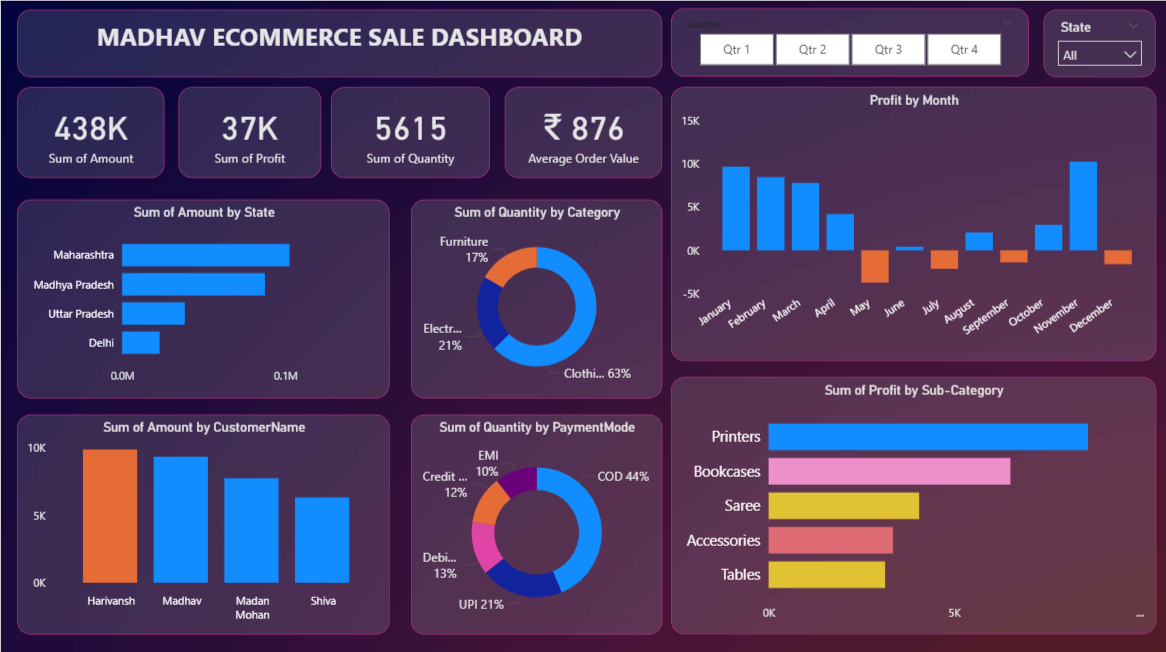

This screenshot's page, from the dashboard's own definition file:
{"tool":"powerbi","page":{"name":"Page 1","canvas":[1280,720],"ordinal":0},"visuals":[{"type":"textbox","box":[17.8,9.6,708.1,74.1],"z":0},{"type":"columnChart","title":"Profit by Month","fields":{"Y":["Sum(Details.Profit)"],"Category":["Orders.Order Date.Variation.Date Hierarchy.Month"]},"box":[735.5,94.7,532.4,300.5],"z":1000},{"type":"donutChart","fields":{"Category":["Details.Category"],"Y":["Sum(Details.Quantity)"]},"box":[450.1,218.2,275.8,218.2],"z":2000},{"type":"donutChart","fields":{"Category":["Details.PaymentMode"],"Y":["Sum(Details.Quantity)"]},"box":[450.1,454.2,275.8,241.5],"z":3000},{"type":"card","fields":{"Values":["Sum(Details.Amount)"]},"box":[17.8,94.7,161.9,100.2],"z":4000},{"type":"card","fields":{"Values":["Sum(Details.Quantity)"]},"box":[362.3,94.7,174.3,100.2],"z":5000},{"type":"card","fields":{"Values":["Sum(Details.Profit)"]},"box":[194.9,94.7,156.4,100.2],"z":6000},{"type":"card","fields":{"Values":["Sum(Details.CAOV)"]},"box":[553,94.7,172.9,100.2],"z":7000},{"type":"barChart","fields":{"Category":["Details.Sub-Category"],"Y":["Sum(Details.Profit)"]},"box":[735.5,413,532.4,282.7],"z":8000},{"type":"barChart","fields":{"Category":["Orders.State"],"Y":["Sum(Details.Amount)"]},"box":[17.8,218.2,408.9,218.2],"z":9000},{"type":"columnChart","fields":{"Category":["Orders.CustomerName"],"Y":["Sum(Details.Amount)"]},"box":[17.8,454.2,408.9,241.5],"z":10000},{"type":"slicer","fields":{"Values":["Orders.Order Date.Variation.Date Hierarchy.Quarter"]},"box":[735.5,8.2,392.5,75.5],"z":10001},{"type":"slicer","fields":{"Values":["Orders.State"]},"box":[1144.4,9.6,123.5,74.1],"z":10002}]}

Visuals, with their boxes in screenshot pixels (x1, y1, x2, y2), scaled from the page's 1280x720 canvas onto the 1166x652 screenshot:
textbox: rect(16, 9, 661, 76)
"Profit by Month" columnChart: rect(670, 86, 1155, 358)
donutChart - Details.Category x Sum(Details.Quantity): rect(410, 198, 661, 395)
donutChart - Details.PaymentMode x Sum(Details.Quantity): rect(410, 411, 661, 630)
card - Sum(Details.Amount): rect(16, 86, 164, 176)
card - Sum(Details.Quantity): rect(330, 86, 489, 176)
card - Sum(Details.Profit): rect(178, 86, 320, 176)
card - Sum(Details.CAOV): rect(504, 86, 661, 176)
barChart - Details.Sub-Category x Sum(Details.Profit): rect(670, 374, 1155, 630)
barChart - Orders.State x Sum(Details.Amount): rect(16, 198, 389, 395)
columnChart - Orders.CustomerName x Sum(Details.Amount): rect(16, 411, 389, 630)
slicer - Orders.Order Date.Variation.Date Hierarchy.Quarter: rect(670, 7, 1028, 76)
slicer - Orders.State: rect(1042, 9, 1155, 76)
